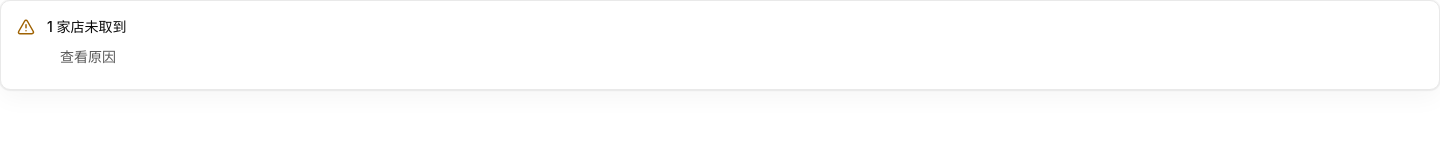
Test: ShopFailureAlert › 已在顶部横条的店不计数、不列出
This screenshot has width=1440, height=160.
expect the message shows "1 家店未取到": met, box [47,18,126,35]
Click the button "查看原因": click(88, 57) [47,41,129,73]
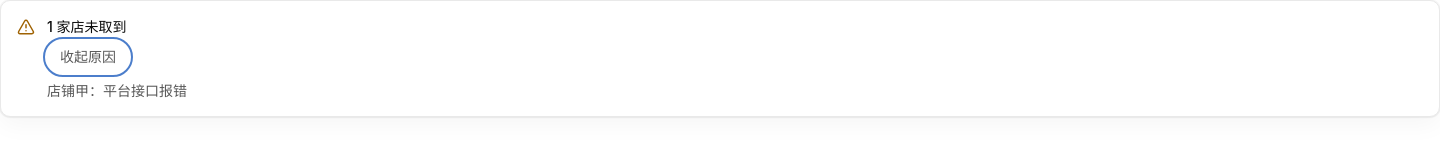
expect the list item reads "店铺甲：平台接口报错": met, box [47,82,187,99]
